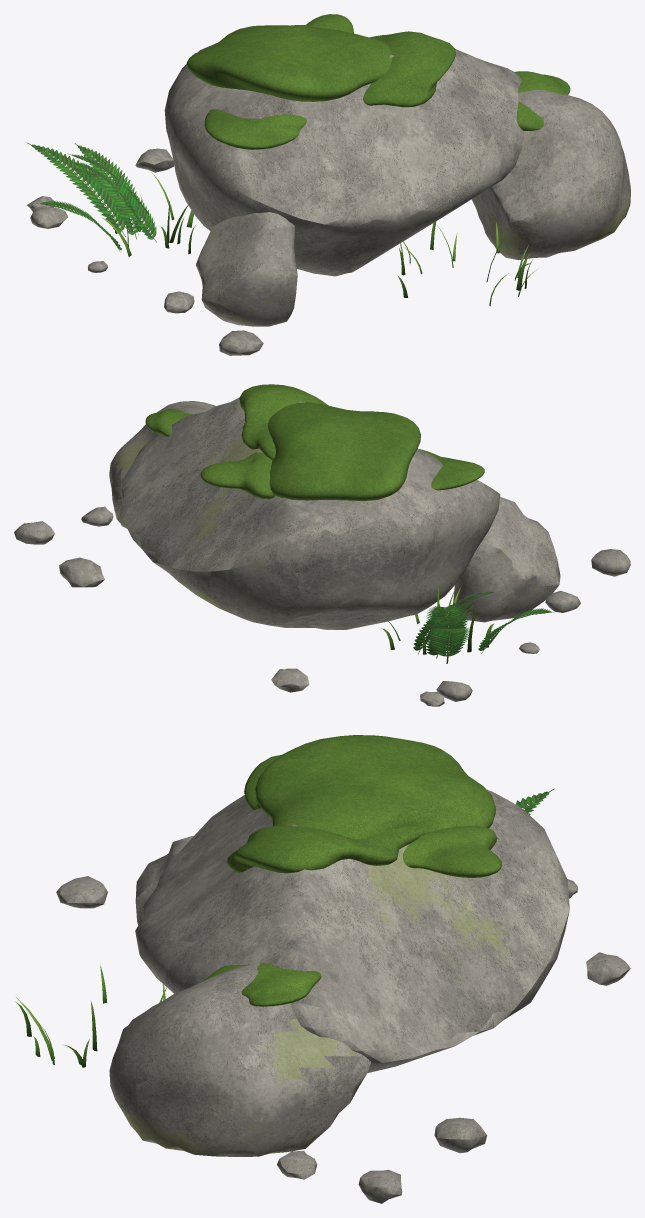
Rendered from roca.gltf.
3 views of the same model, one above another, from view 1: azimuth 30°, elevation 25°; view 2: azimuth 150°, elevation 25°; view 3: azimuth 270°, elevation 25° (orthographic). The views are drawn at different scales.
Visible parts, largest first — view 1: roca; view 2: roca; view 3: roca.
Boxes of the visible parts, x1=… form: roca: x1=27, y1=14, x2=630, y2=355; roca: x1=14, y1=384, x2=630, y2=706; roca: x1=15, y1=735, x2=630, y2=1203.
Size of the model in its own units: 3.49 by 1.25 by 2.61.
Materials: 4 (4 with a texture image).
